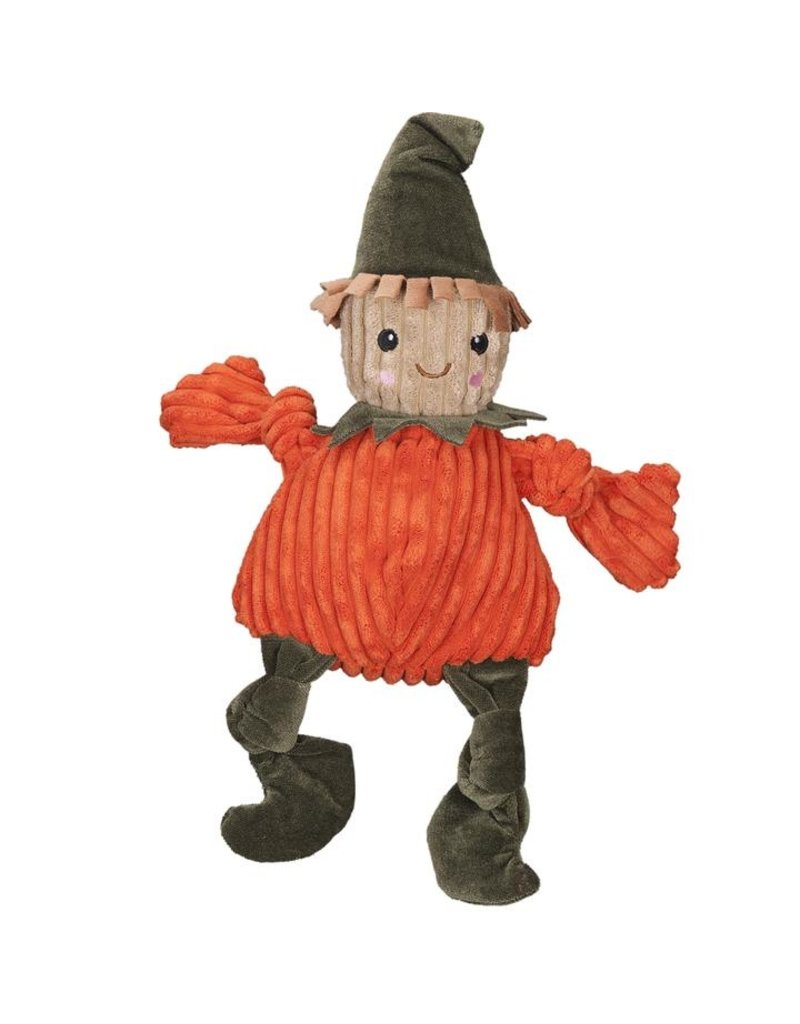person-like: (149, 100, 687, 915)
